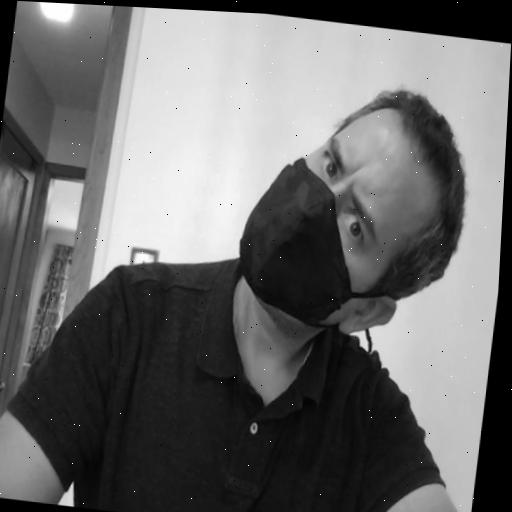mask: (232, 72, 479, 348)
